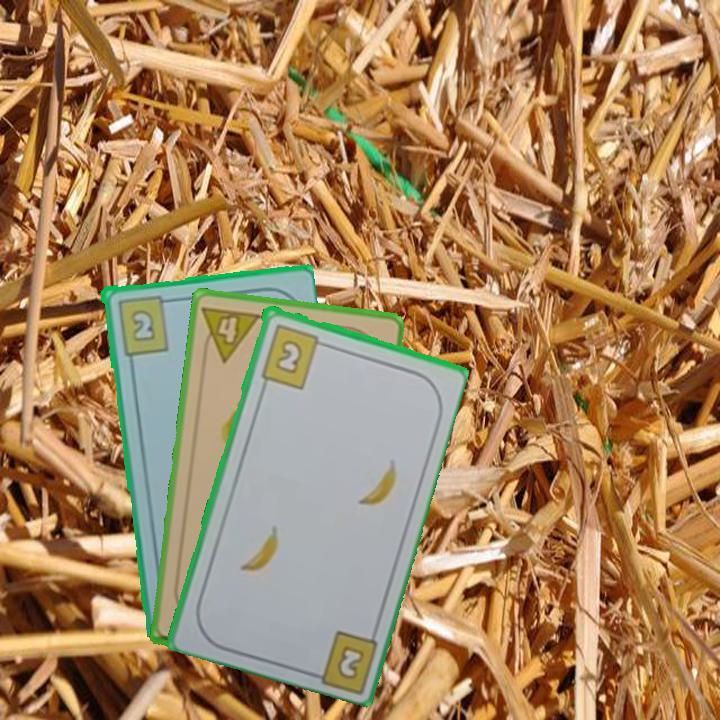2b: (257, 320, 330, 391), (113, 291, 175, 358), (333, 641, 367, 682)
4p: (198, 302, 264, 365)
